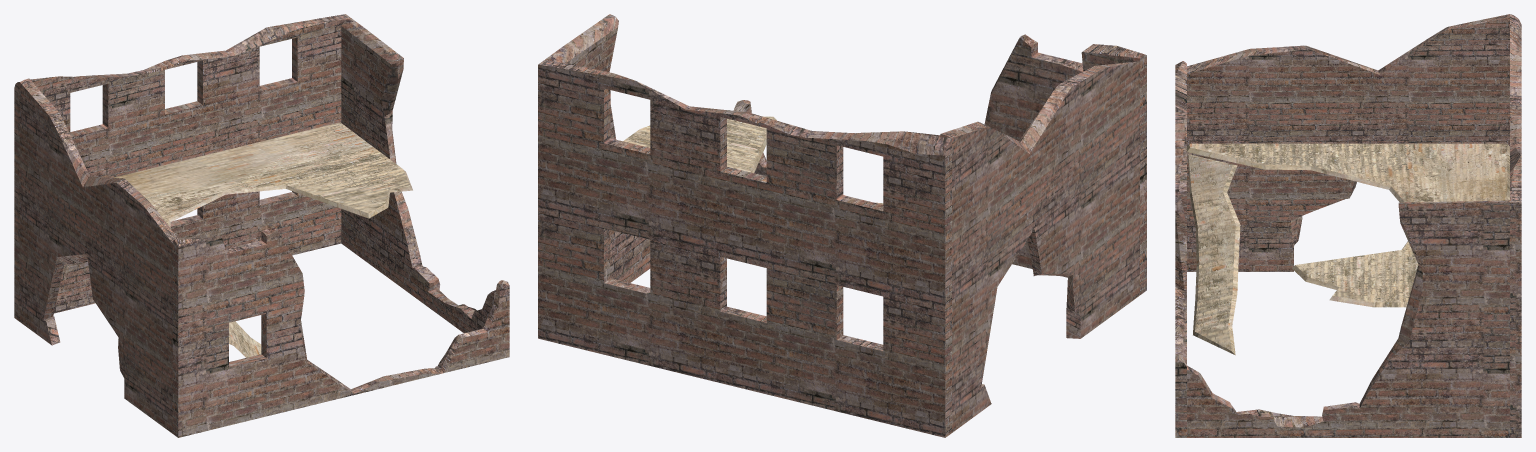
Rendered from nha5.fbx.
3 views of the same model, side by side, from view 1: azimuth 30°, elevation 25°; view 2: azimuth 150°, elevation 25°; view 3: azimuth 270°, elevation 25° (orthographic). The views are drawn at different scales.
Visible parts, largest first — view 1: Plane.004, Plane.005, Plane.002, Plane.001, Plane.003, Cube; view 2: Plane.004, Plane.005, Plane.002, Plane.003, Plane.001; view 3: Plane.005, Plane.003, Plane.001, Cube, Plane.004, Plane.002.
Boxes of the visible parts, box(x1,y1,x2,y2) form: Plane.004: box(14, 14, 350, 321); Plane.005: box(19, 78, 178, 433); Plane.002: box(172, 224, 509, 437); Plane.001: box(113, 122, 412, 227); Plane.003: box(341, 18, 495, 333); Cube: box(229, 321, 261, 357); Plane.004: box(538, 60, 951, 437); Plane.005: box(940, 61, 1139, 432); Plane.002: box(733, 34, 1146, 294); Plane.003: box(545, 14, 650, 282); Plane.001: box(623, 116, 883, 204); Plane.005: box(1187, 14, 1509, 271); Plane.003: box(1187, 200, 1509, 437); Plane.001: box(1187, 143, 1509, 307); Cube: box(1188, 154, 1240, 355); Plane.004: box(1510, 14, 1521, 437); Plane.002: box(1175, 61, 1186, 437).
Size of the model in its own units: 700 by 487 by 600.
2 materials, 2 textured.
